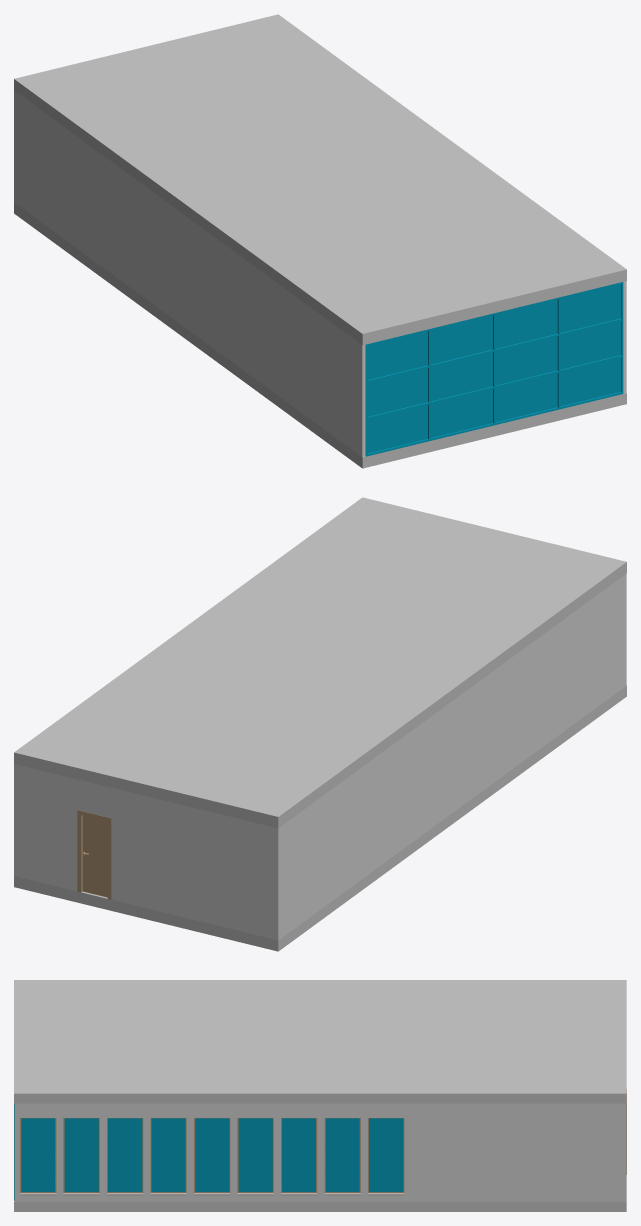
File: tested_sample_project-draco.gltf
The picture shows the model from 3 angles, top to bottom: view 1: azimuth 30°, elevation 25°; view 2: azimuth 150°, elevation 25°; view 3: azimuth 270°, elevation 25°; orthographic projection. The views are drawn at different scales.
Size of the model in its own units: 7.47 by 3.6 by 16.91.
